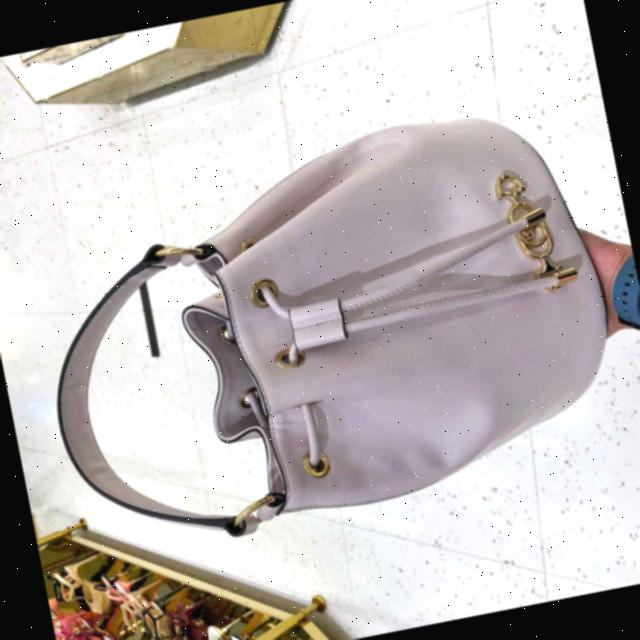Handbag: (145, 77, 640, 551)
